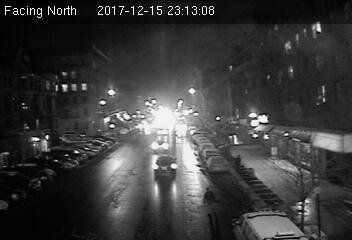car: (153, 153, 178, 176), (206, 158, 229, 171), (150, 138, 169, 153)
pedestrian: (203, 187, 219, 216)
police: (233, 210, 314, 240)
